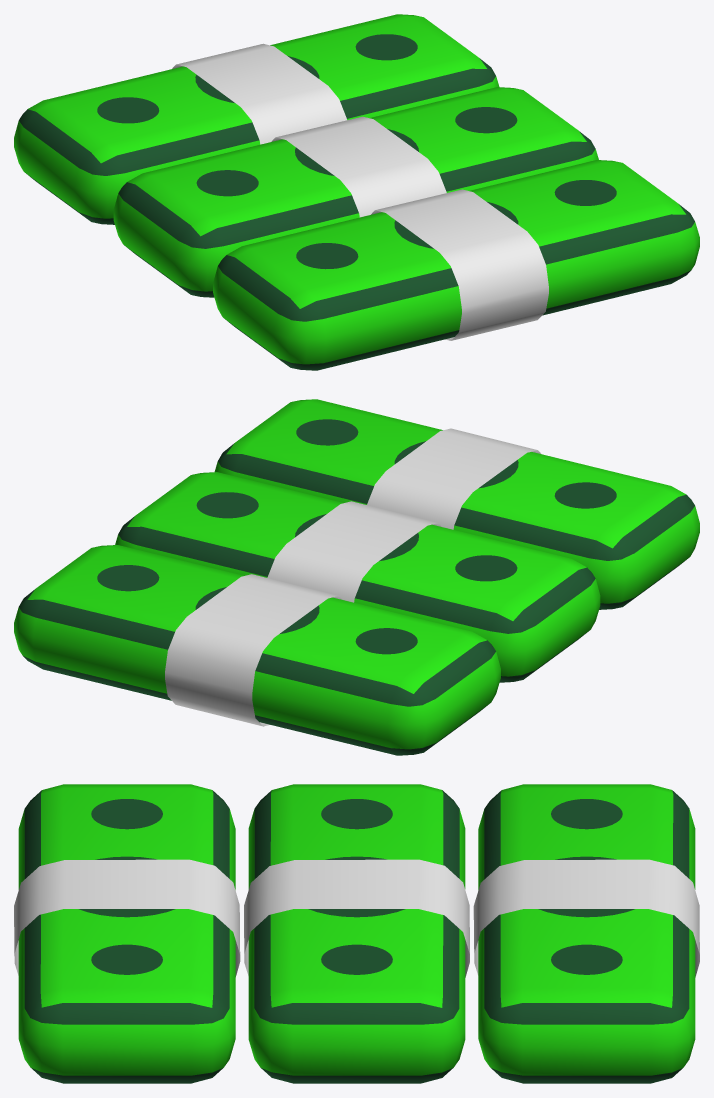
Rendered from MoneyPiles.fbx.
3 renders of one model, top to bottom at view 1: azimuth 30°, elevation 25°; view 2: azimuth 150°, elevation 25°; view 3: azimuth 270°, elevation 25°, orthographic. The views are drawn at different scales.
Visible parts, largest first — view 1: MoneyPile; view 2: MoneyPile; view 3: MoneyPile.
Part boxes in pixels (left/top/right/bottom): MoneyPile: left=14, top=14, right=699, bottom=370; MoneyPile: left=14, top=399, right=699, bottom=755; MoneyPile: left=14, top=784, right=699, bottom=1083.
Size of the model in its own units: 97.76 by 19.11 by 119.
